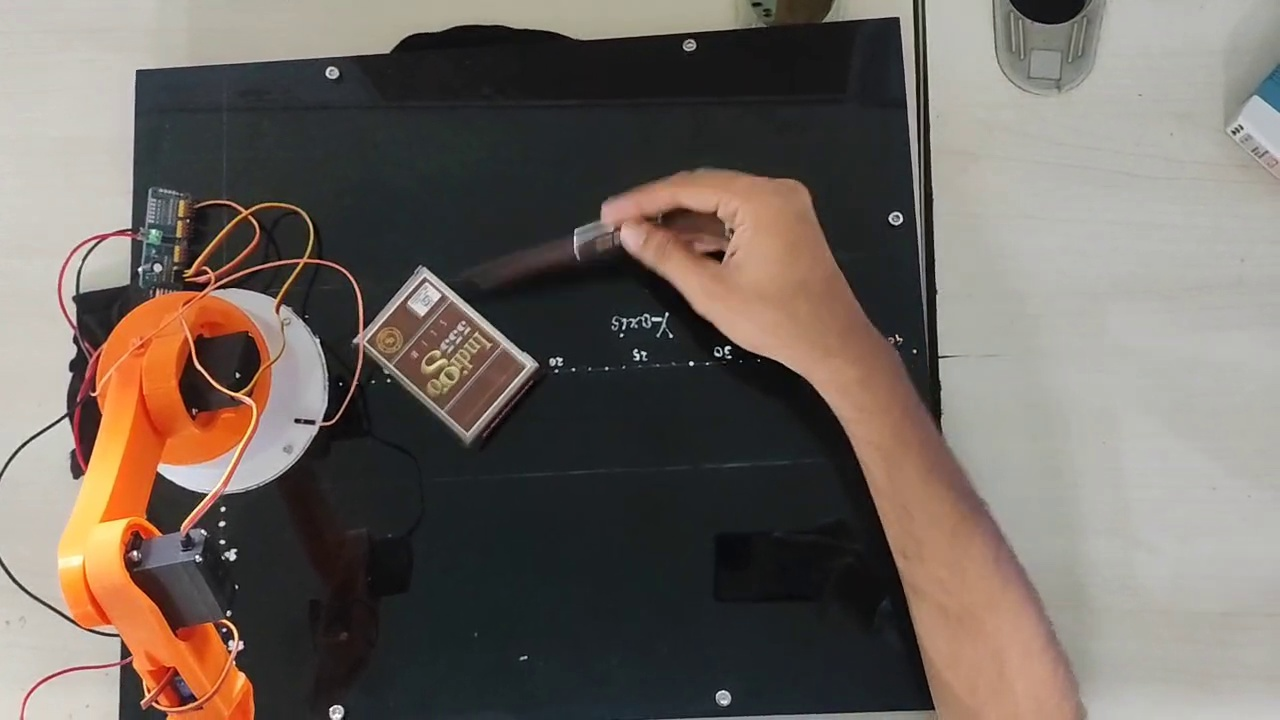BEX: (364, 273, 530, 433)
